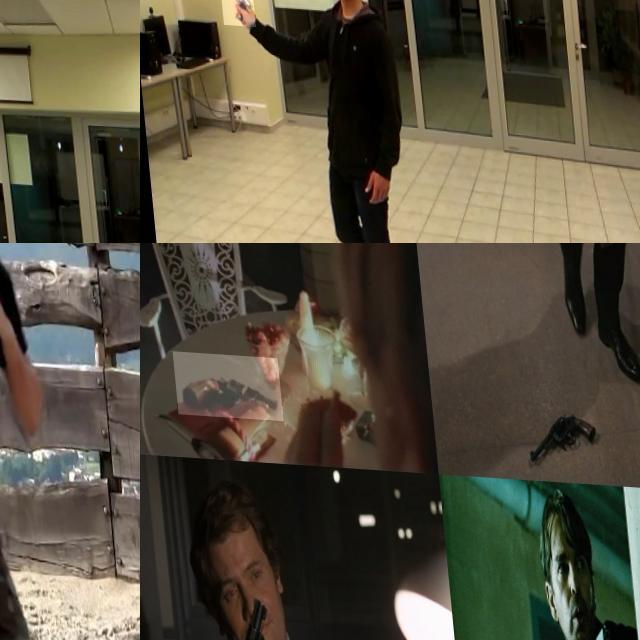-: (0, 243, 27, 365)
gun-knife-thesis - v11 Yolov5 augmented: (168, 351, 278, 418), (514, 390, 592, 468), (211, 594, 289, 640), (559, 599, 615, 640), (213, 0, 249, 28)
